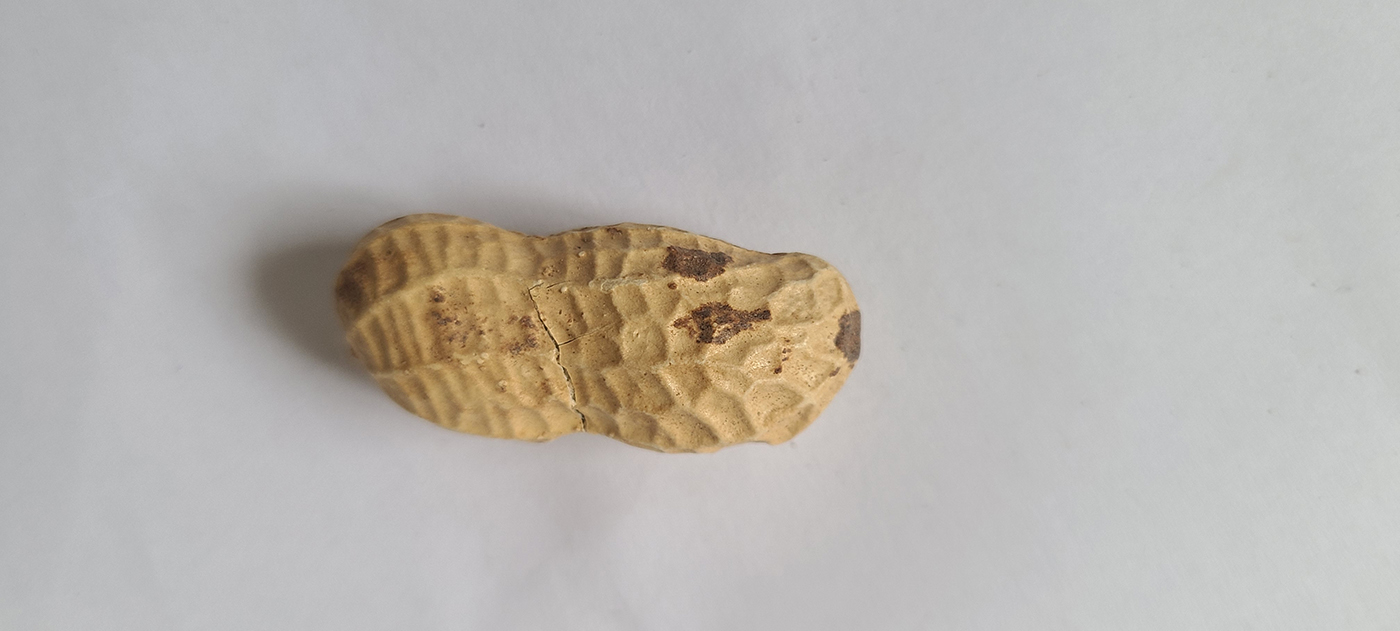h: (331, 207, 864, 451)
